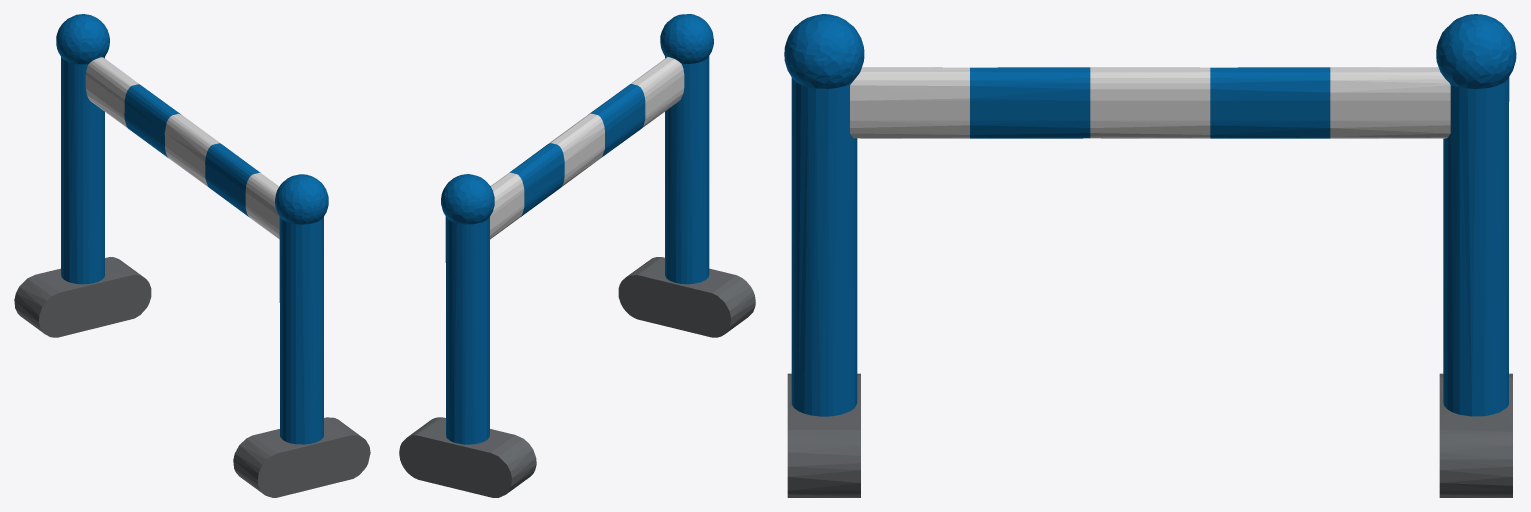
Rendered from hurdle.glb.
3 views of the same model, side by side, from view 1: azimuth 30°, elevation 25°; view 2: azimuth 150°, elevation 25°; view 3: azimuth 270°, elevation 25° (orthographic). The views are drawn at different scales.
Visible parts, largest first — view 1: Mesh_Mesh_head_geo001_lambert2SG001; view 2: Mesh_Mesh_head_geo001_lambert2SG001; view 3: Mesh_Mesh_head_geo001_lambert2SG001.
Part boxes in pixels (left/top/right/bottom): Mesh_Mesh_head_geo001_lambert2SG001: left=14, top=14, right=370, bottom=497; Mesh_Mesh_head_geo001_lambert2SG001: left=399, top=14, right=755, bottom=497; Mesh_Mesh_head_geo001_lambert2SG001: left=784, top=14, right=1516, bottom=497.
Bounding box in the file's own units: 20.94 × 53.66 × 78.96.
